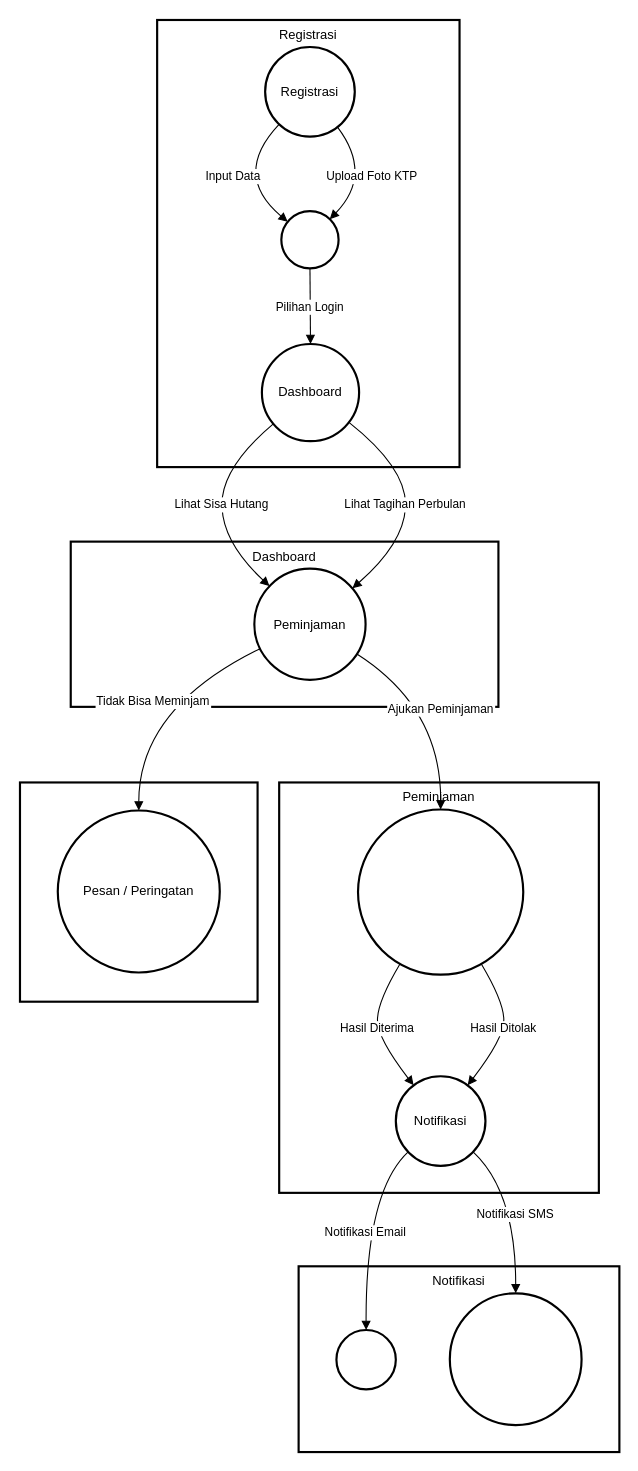
The diagram is 638 pixels wide and 1471 high, and some of its shapes have lost their labels. Each missing label, with the box of its shape:
Email: (335, 1328, 396, 1390)
Login: (280, 210, 339, 269)
Nomor Telepon: (448, 1292, 582, 1426)
PembatasanPeminjaman: (18, 781, 258, 1002)
Proses Peminjaman: (356, 808, 524, 975)
